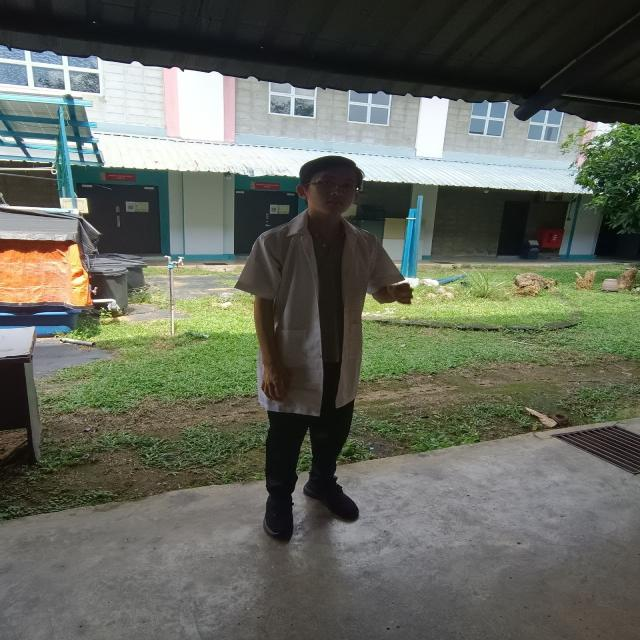person_with_labcoat: (237, 156, 412, 539)
